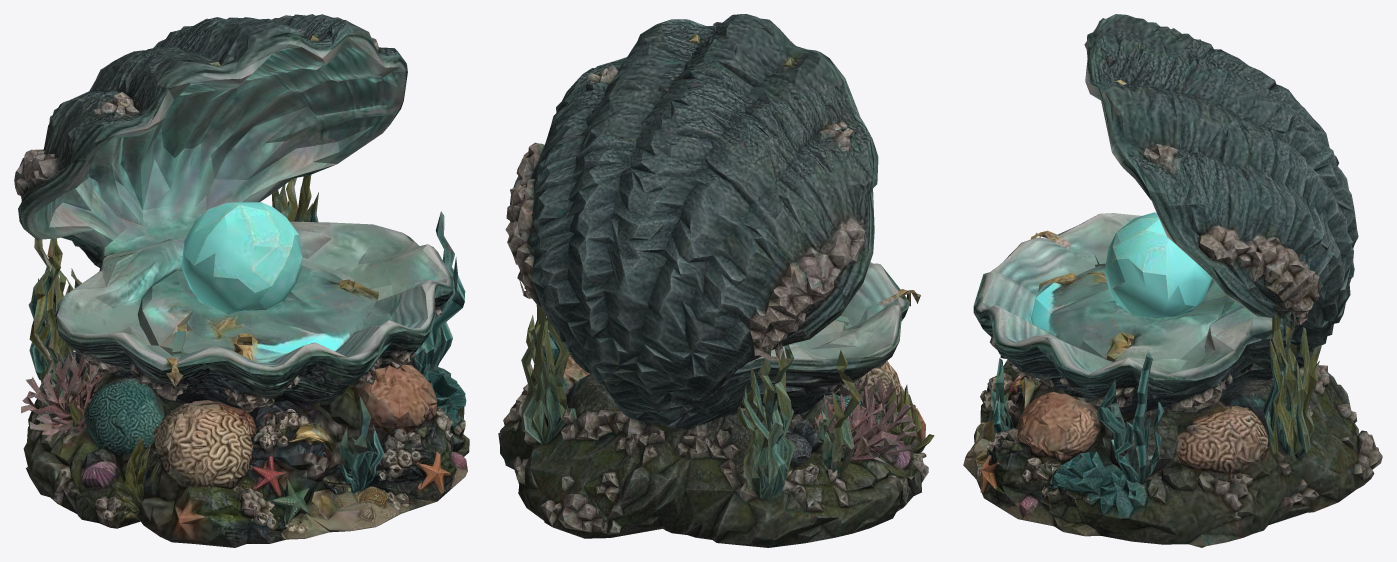
The model's file is model.opt.glb.
The picture shows the model from 3 angles, left to right: view 1: azimuth 30°, elevation 25°; view 2: azimuth 150°, elevation 25°; view 3: azimuth 270°, elevation 25°; orthographic projection. The views are drawn at different scales.
Visible parts, largest first — view 1: Mesh_0; view 2: Mesh_0; view 3: Mesh_0.
Part boxes in pixels (bbox=[...]): Mesh_0: bbox=[14, 14, 469, 547]; Mesh_0: bbox=[498, 14, 934, 547]; Mesh_0: bbox=[963, 14, 1382, 547].
Size of the model in its own units: 1.87 by 1.9 by 1.72.
Materials: 1 (1 with a texture image).
